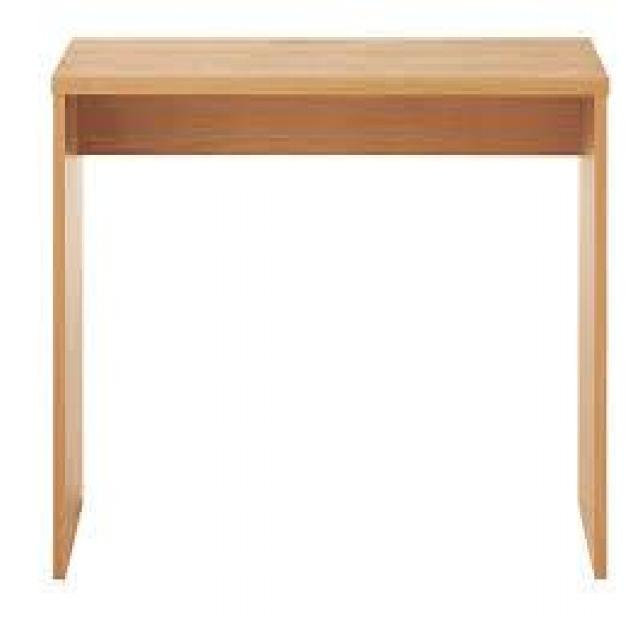table: (25, 16, 622, 612)
